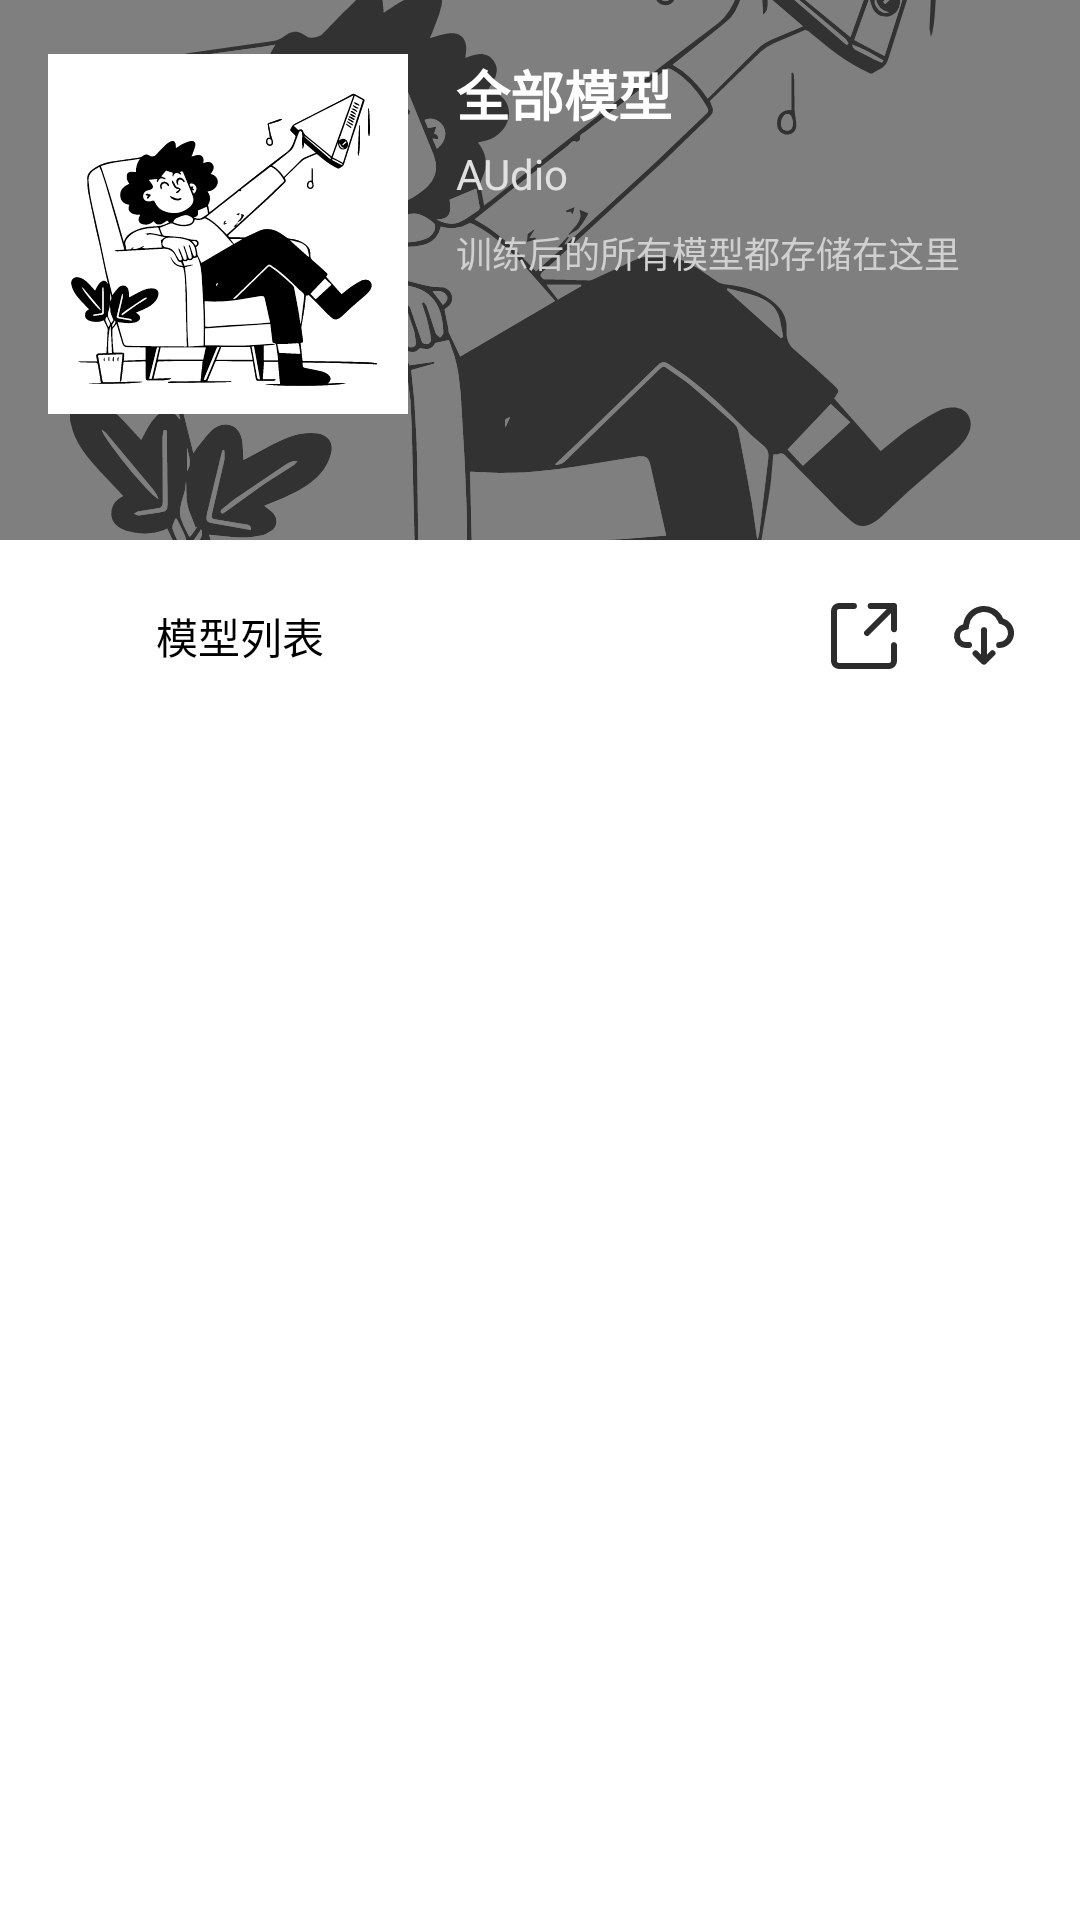

Named icons in this screenshot (1080*1920) and their centers, [x,y]:
el custom download: [984,635]
fenxiang: [864,636]
